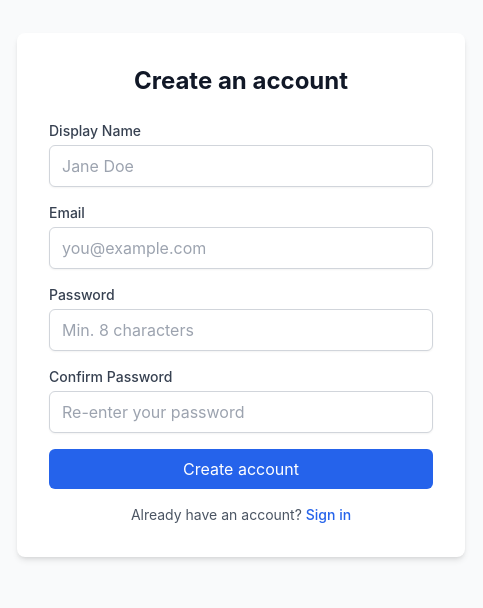
Scenario: RegisterPage › should show error when password is too short
In the field labelled "Display Name": (241, 166) top-left (49, 145), bottom-right (433, 187), type "New User"
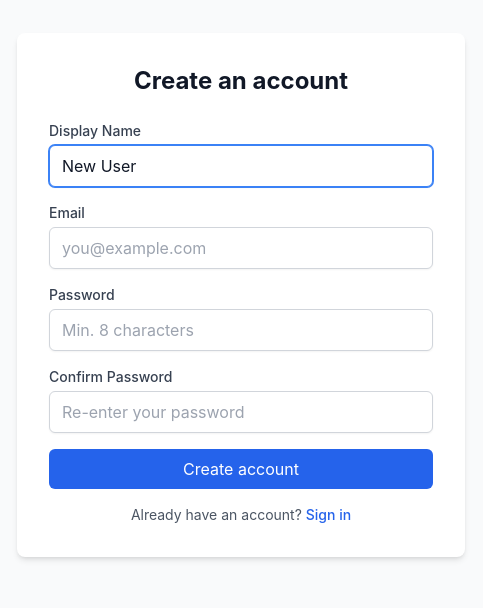
In the field labelled "Email": (241, 248) top-left (49, 227), bottom-right (433, 269), type "newuser@example.com"
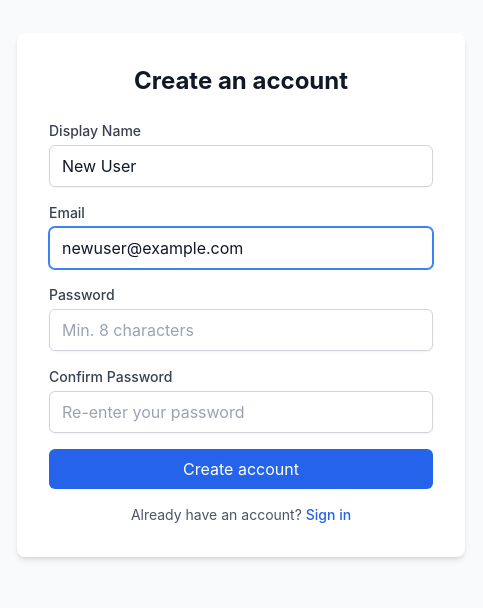
In the password field labelled "Password": (241, 330) top-left (49, 309), bottom-right (433, 351), type "short"
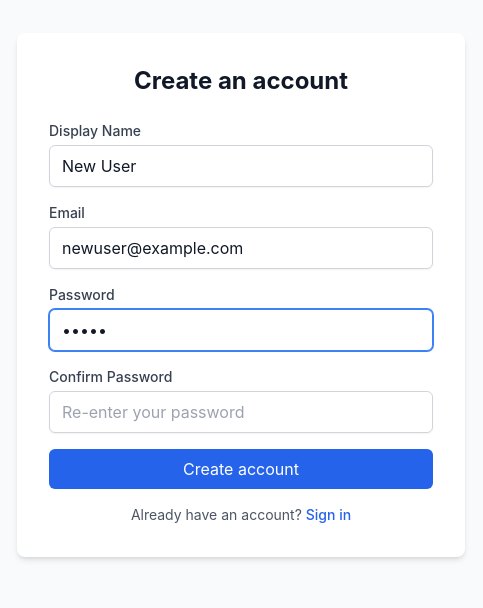
In the password field labelled "Confirm Password": (241, 412) top-left (49, 391), bottom-right (433, 433), type "short"
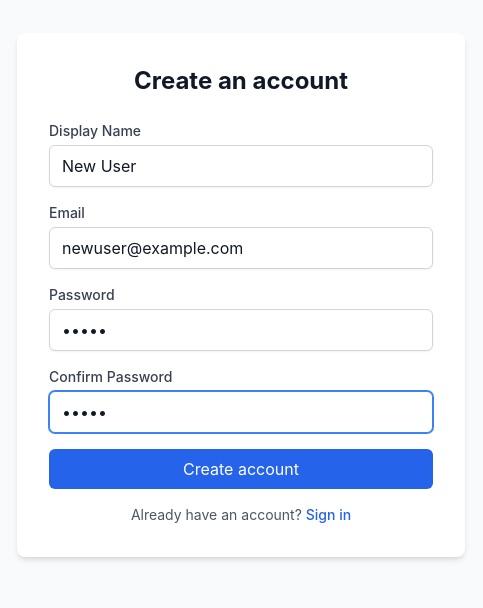
Click the button "Create account": click(241, 469) top-left (49, 449), bottom-right (433, 489)
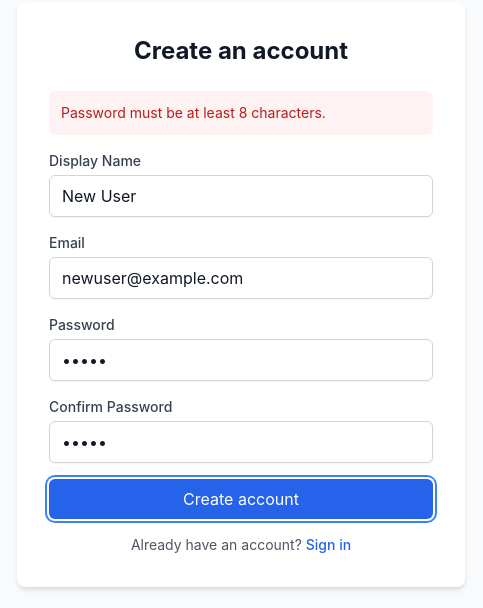
expect the message reads "Password must be at least 8 characters.": met, box top-left (61, 104), bottom-right (326, 121)
